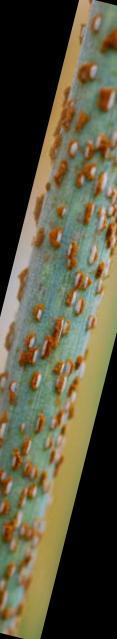Wheat: (6, 55, 117, 573)
